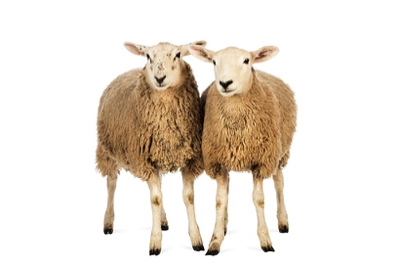koyun: (97, 40, 205, 257), (188, 43, 291, 257)
